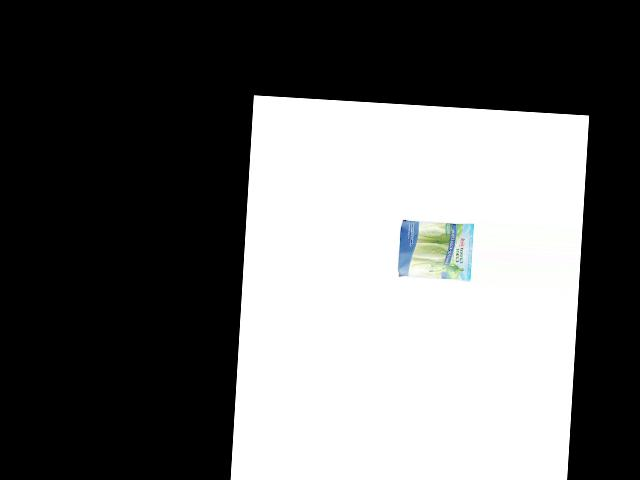lettuce: (394, 218, 470, 283)
